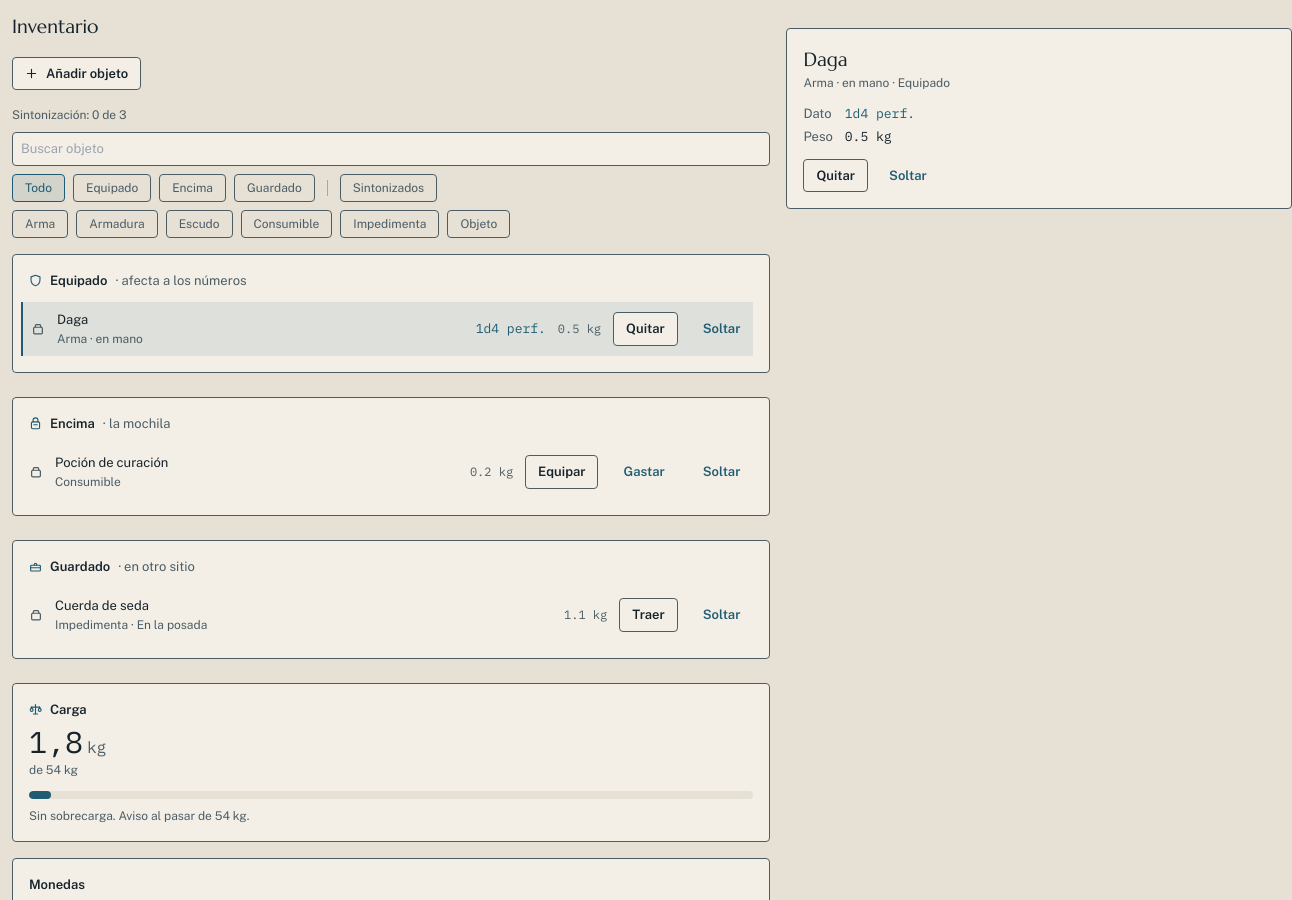
Test case: PaginaDeInventario — a página (tarea 9) › los filtros recortan las tres zonas y la selección cae a la primera fila visible
Expected: the heading "Daga" is shown, [803, 47, 848, 71]
Type "pocion" into the search field labelled "Buscar objeto". click: coordinates (391, 149)
box: [12, 132, 770, 166]
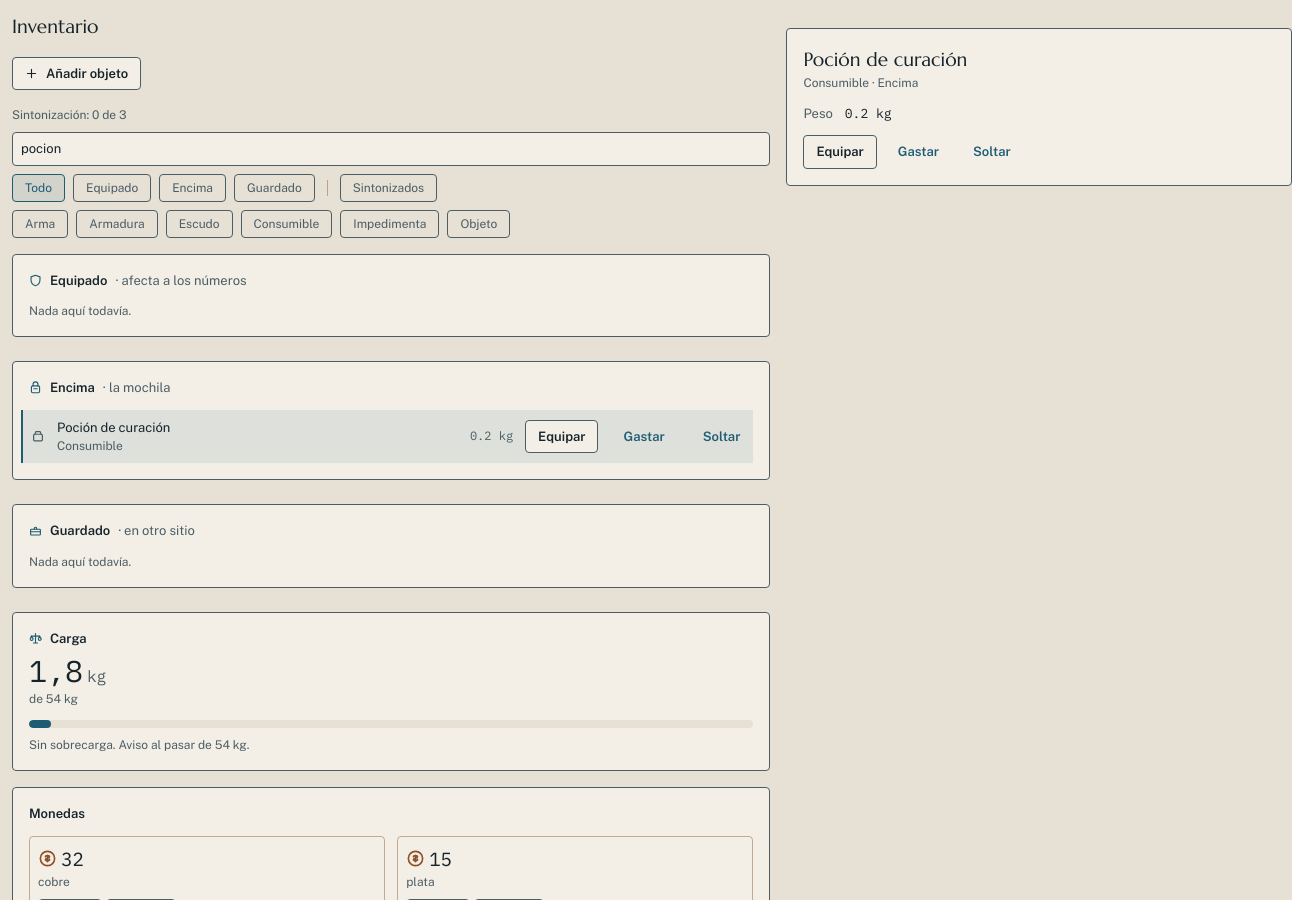
Expected: the button with aria-label "ver detalle de Poción" is shown, [57, 418, 170, 437]
Result: the heading "Poción de curación" is shown at [803, 47, 967, 71]
Clear the search field named "Buscar objeto". click: coordinates (391, 149)
box: [12, 132, 770, 166]
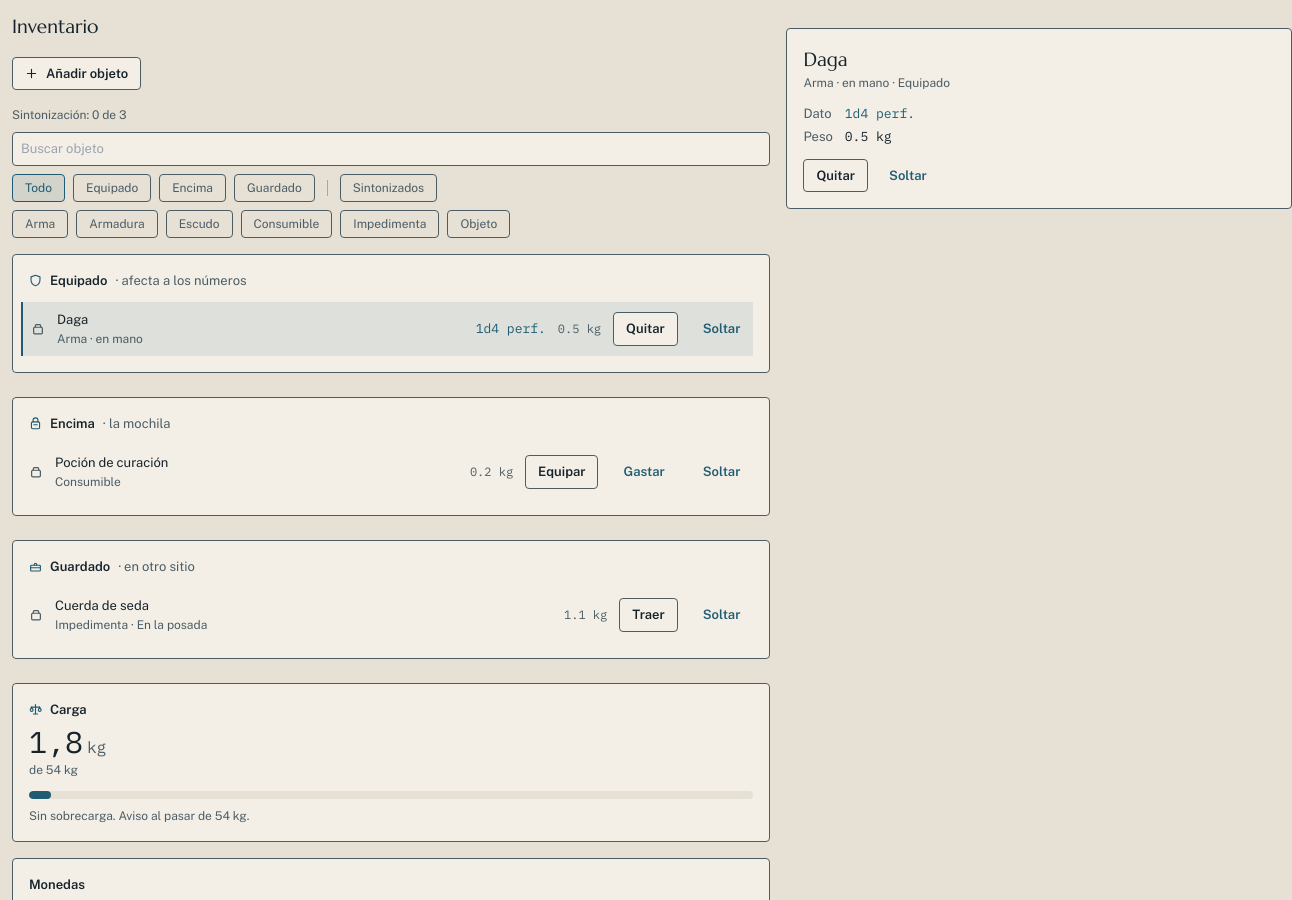
Click the button "Consumible". click: coordinates (286, 224)
box: [241, 210, 332, 238]
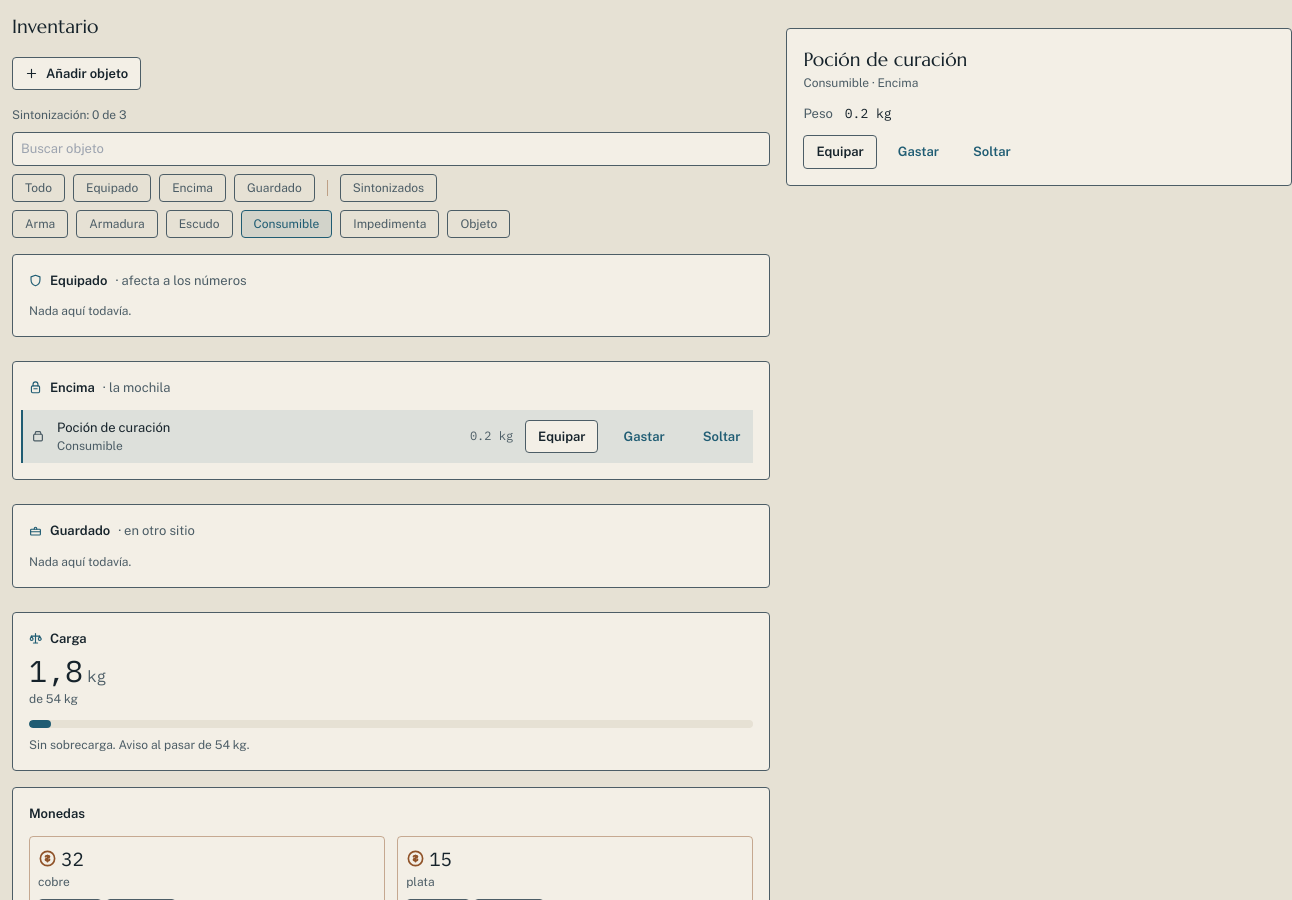
Result: the button "Consumible" is pressed
Click the button "Consumible". click: coordinates (286, 224)
box: [241, 210, 332, 238]
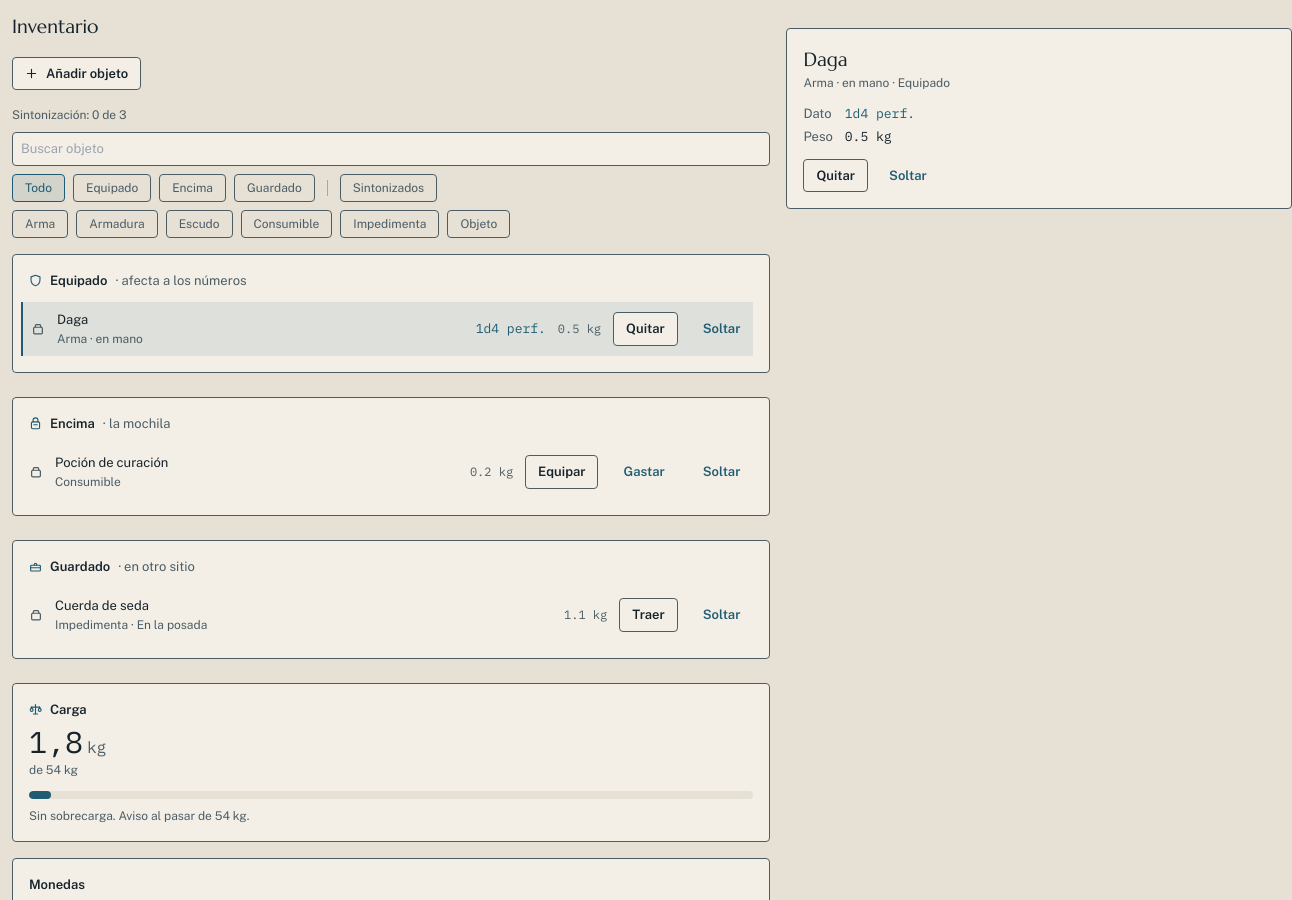
Result: the button with aria-label "ver detalle de Daga" is shown at [57, 310, 88, 330]
Click the button "Guardado". click: coordinates (274, 188)
box: [234, 174, 315, 202]
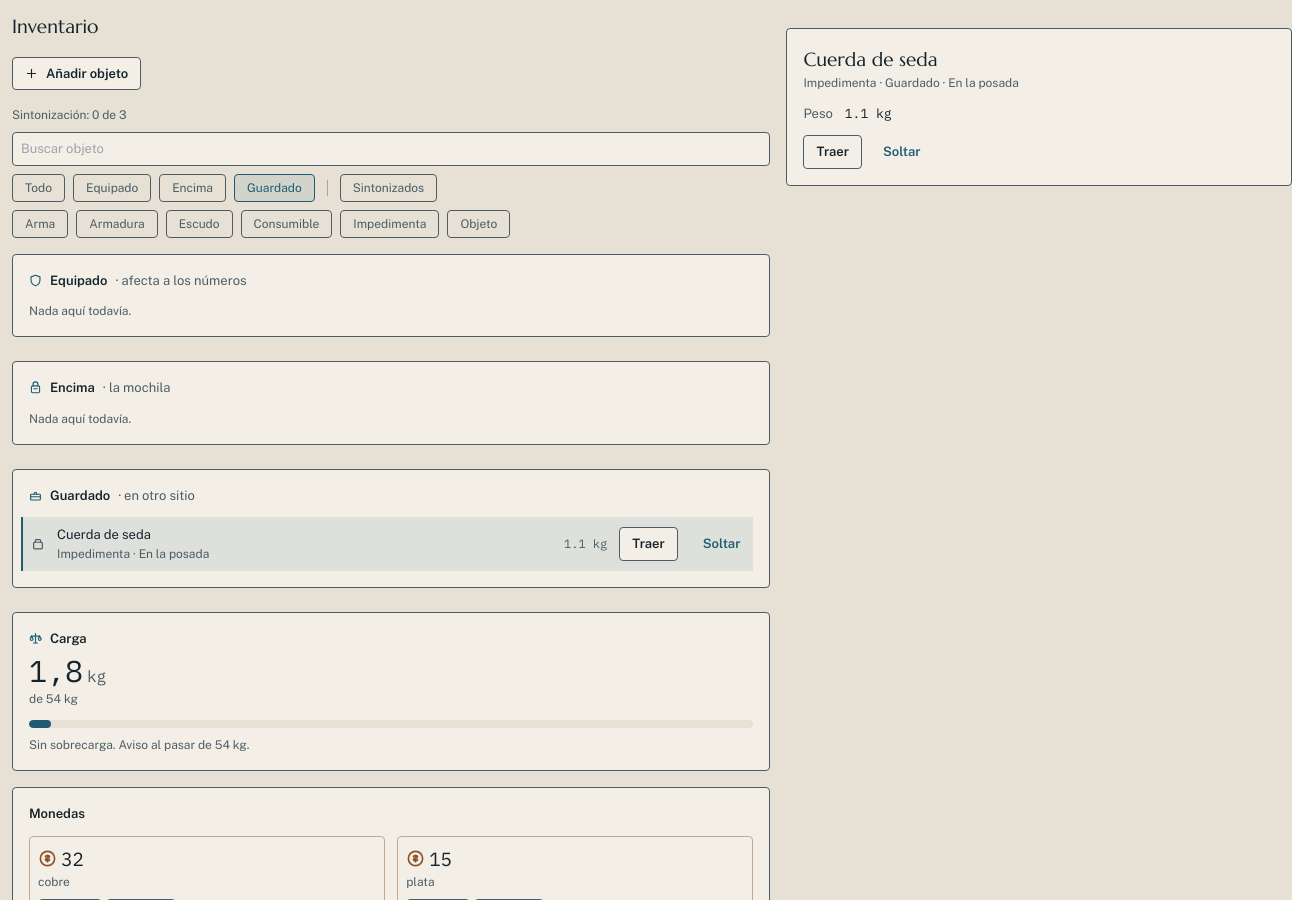
Result: the heading "Cuerda de seda" is shown at [803, 47, 938, 71]
